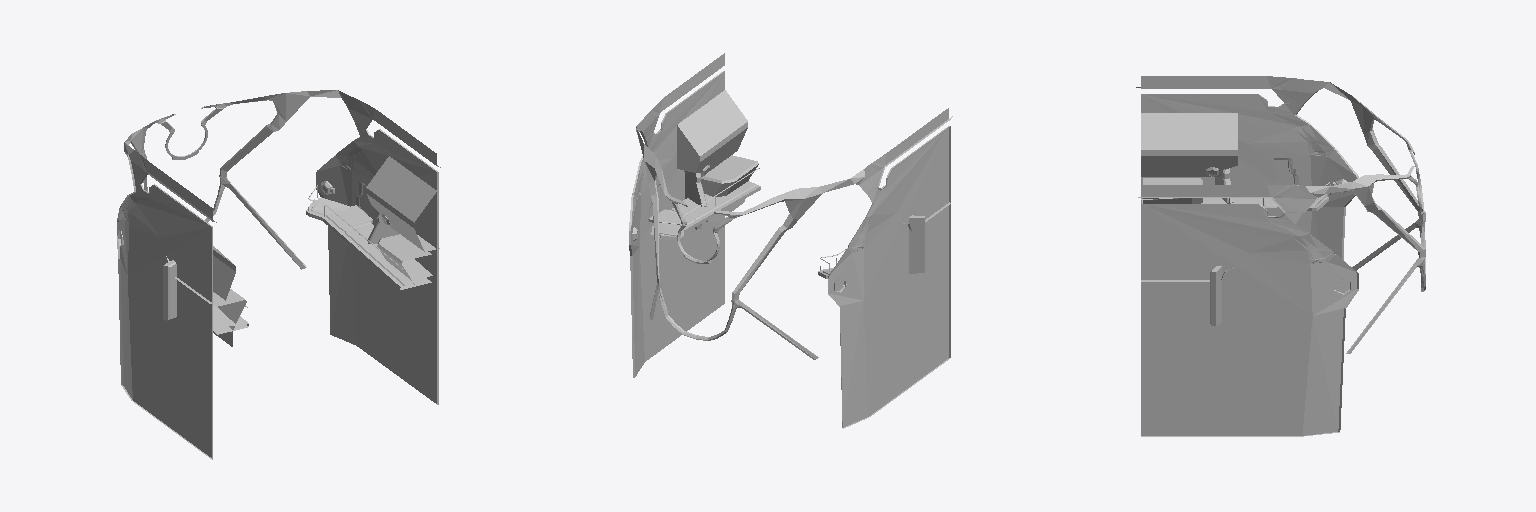
Rendered from ship_3.obj.
3 renders of one model, left to right at view 1: azimuth 30°, elevation 25°; view 2: azimuth 150°, elevation 25°; view 3: azimuth 270°, elevation 25°, orthographic.
Visible parts, largest first — view 1: Warship_Wall; view 2: Warship_Wall; view 3: Warship_Wall.
Part boxes in pixels (x1,y1,x2,y2): Warship_Wall: (117, 90, 440, 459); Warship_Wall: (629, 53, 952, 428); Warship_Wall: (1136, 76, 1425, 436).
Size of the model in its own units: 14.11 by 13.56 by 14.29.